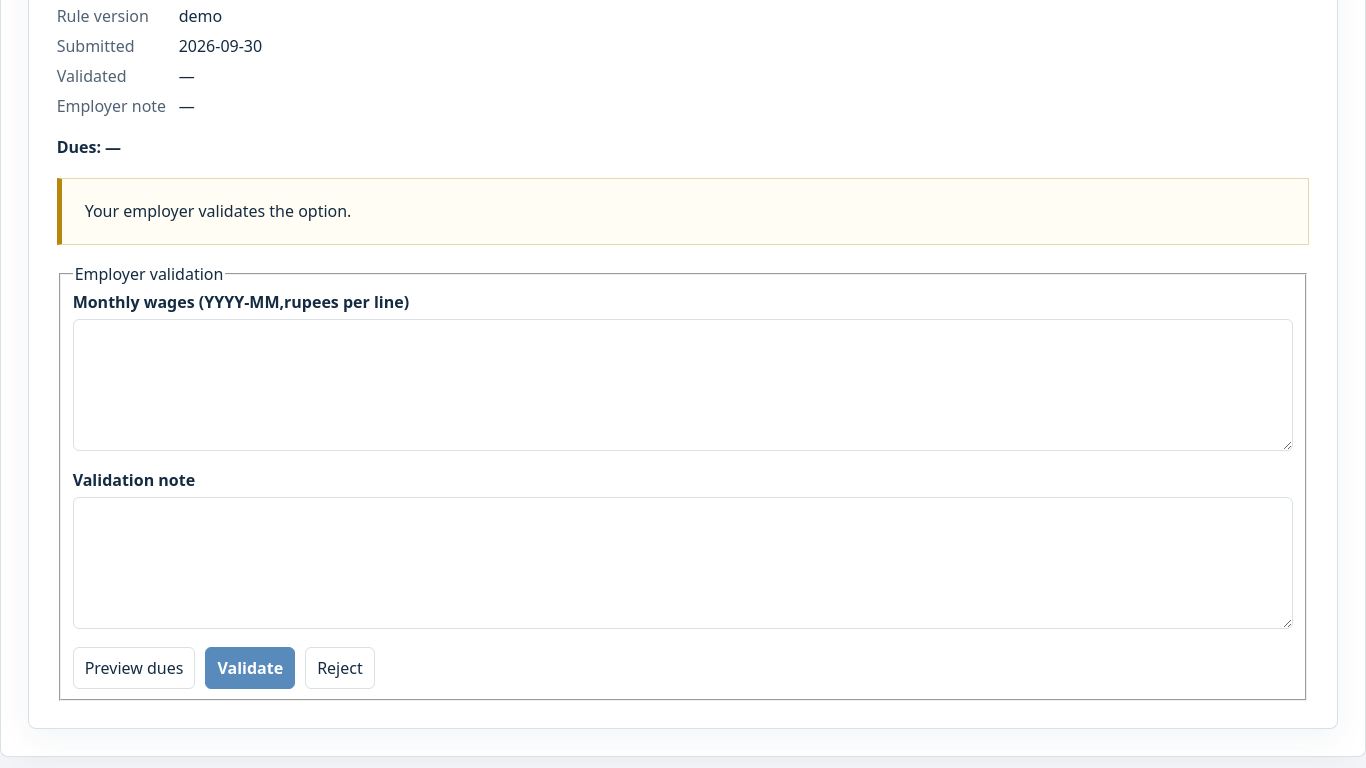
Test: rejects a short employer decision note before step-up
(page scrolled)
In the text box labelled "Monthly wages (YYYY-MM,rupees per line)": (683, 385) [73,319,1293,451], type "2012-01,30000.50"
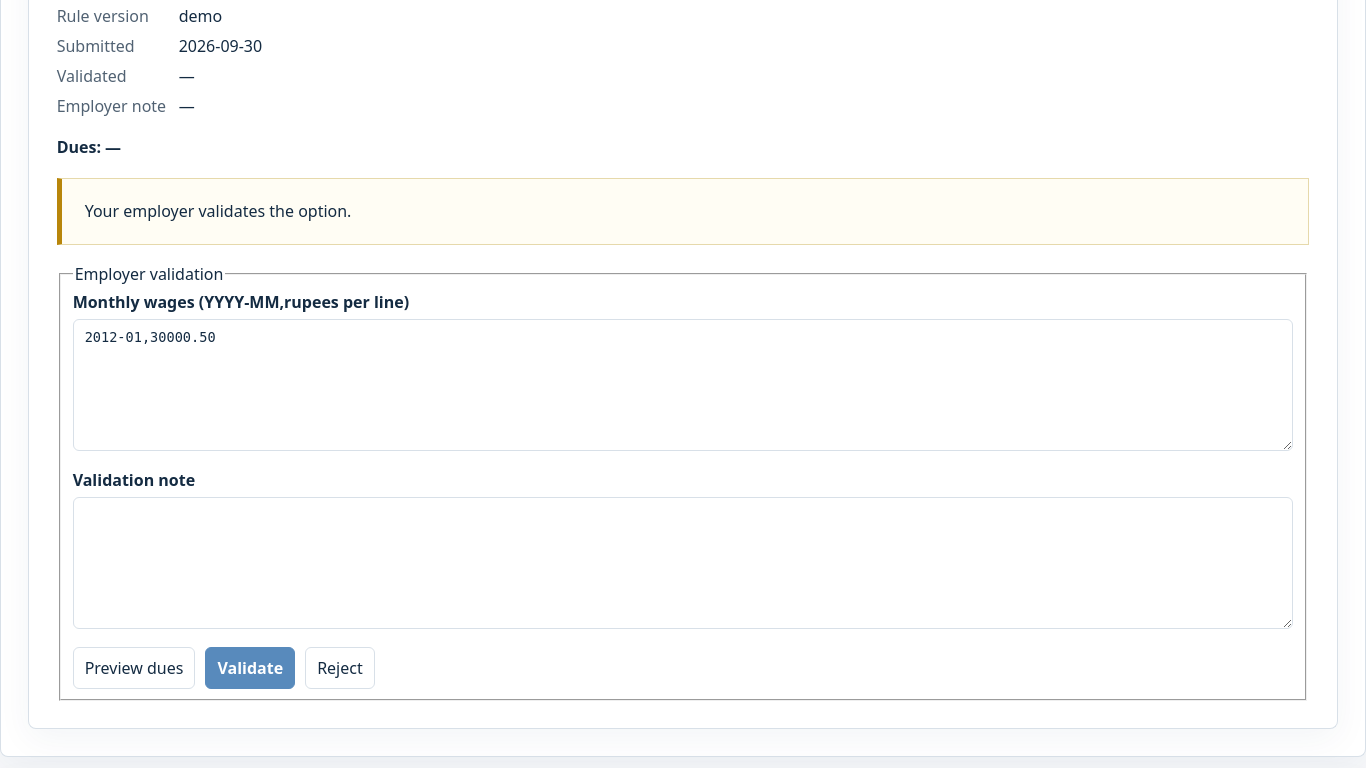
In the text box labelled "Validation note": (683, 563) [73,497,1293,629], type "Checked employer records."
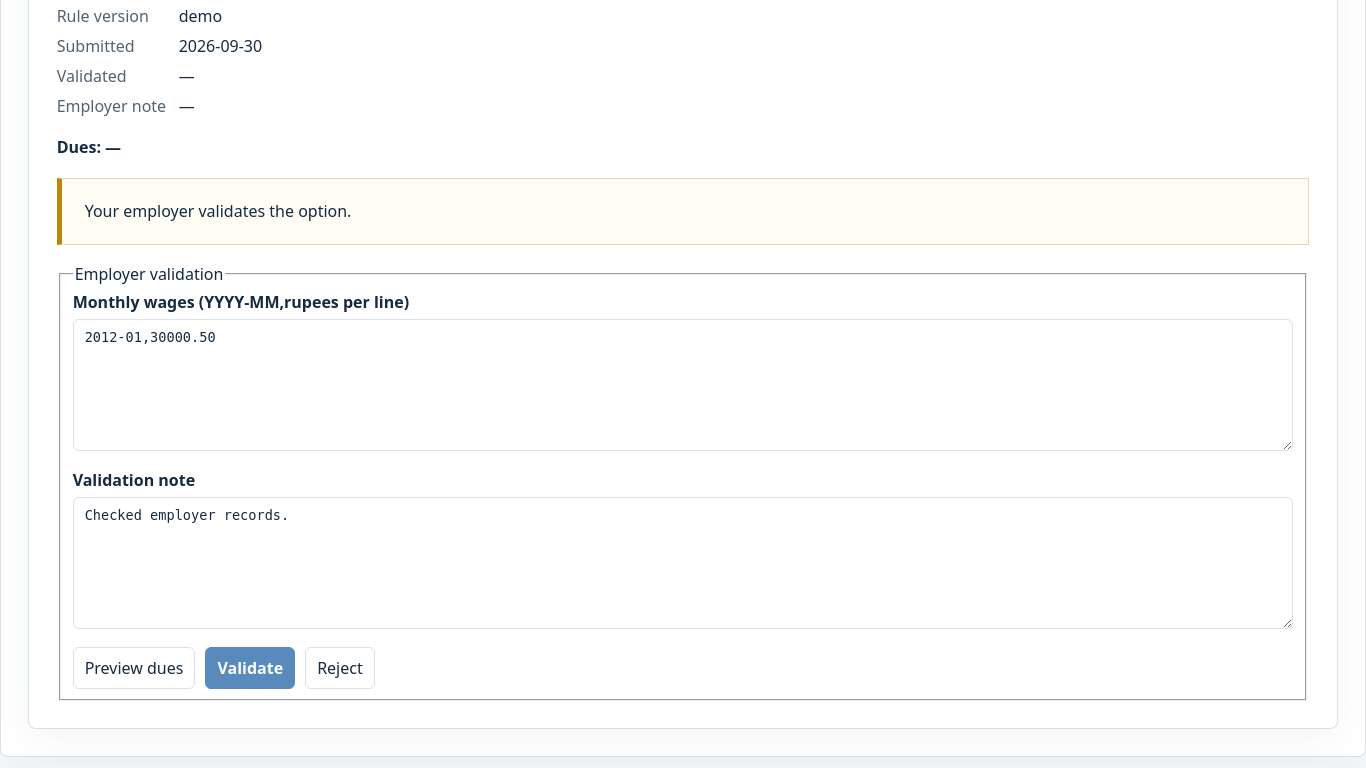
Replace the text in the text box labelled "Validation note" with "bad": (683, 563) [73,497,1293,629]
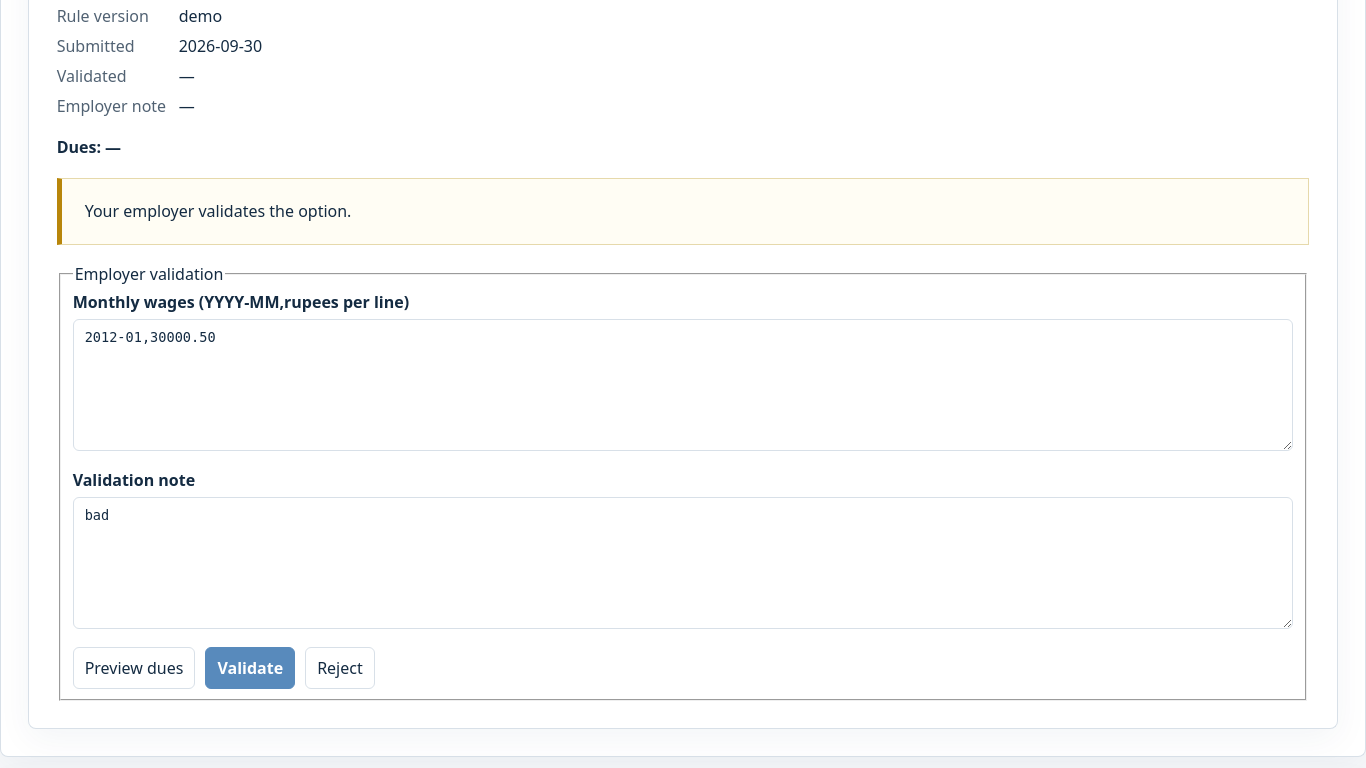
Click the button "Reject": (340, 668) [305,647,375,689]
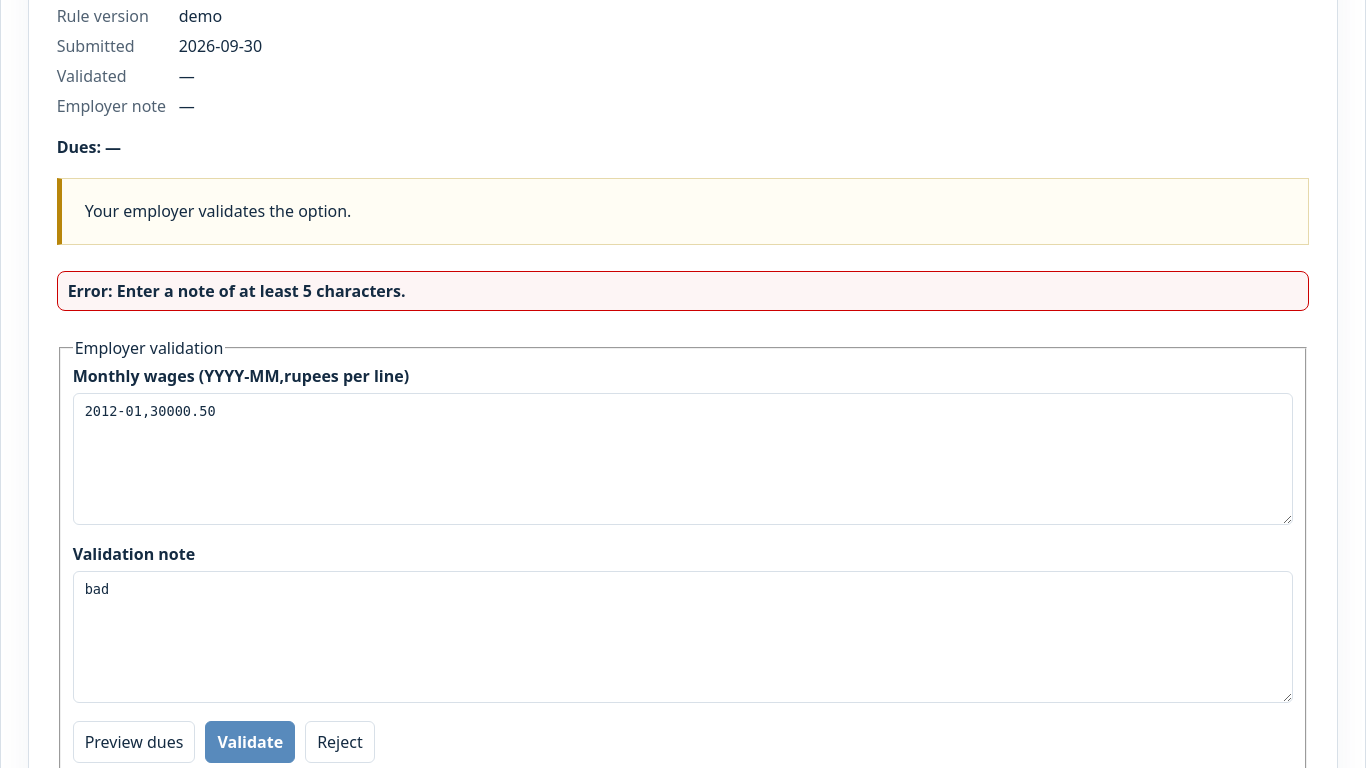
Result: the message "Error: Enter a note of at least 5 characters." is shown at [57,271,1309,311]
